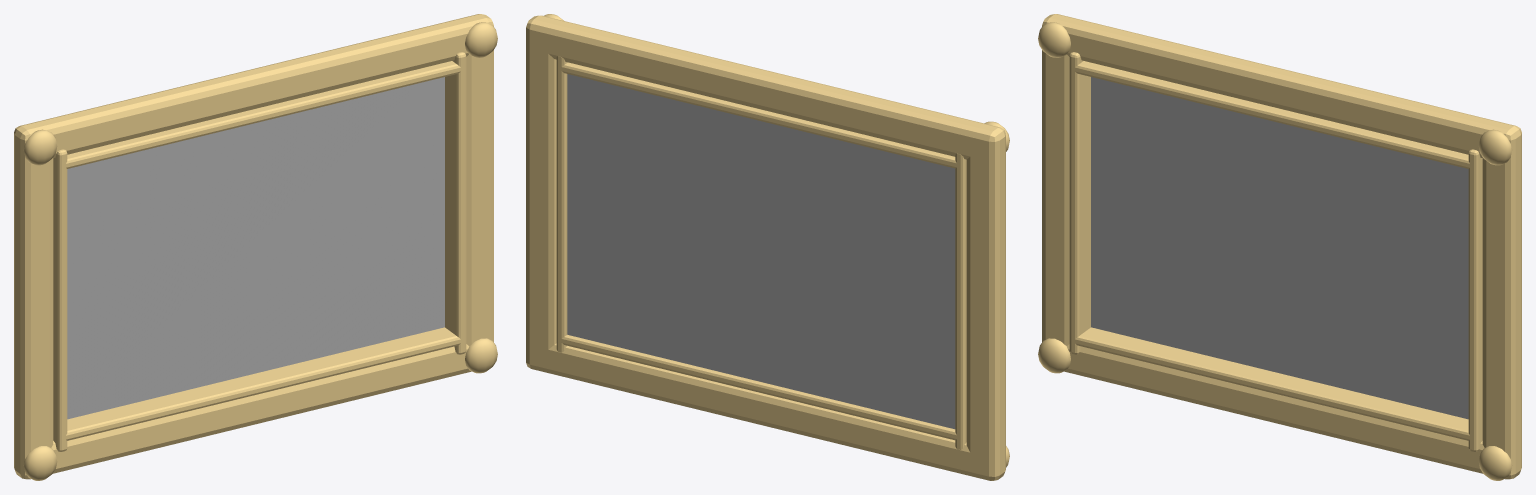
The model's file is frame_wide.glb.
3 renders of one model, left to right at view 1: azimuth 30°, elevation 25°; view 2: azimuth 150°, elevation 25°; view 3: azimuth 330°, elevation 25°, orthographic.
Visible parts, largest first — view 1: frame_wide; view 2: frame_wide; view 3: frame_wide.
Part boxes in pixels (x1,y1,x2,y2): frame_wide: (14, 14, 497, 480); frame_wide: (526, 14, 1009, 480); frame_wide: (1038, 14, 1521, 480).
Bounding box in the file's own units: 2.04 × 1.44 × 0.142.
